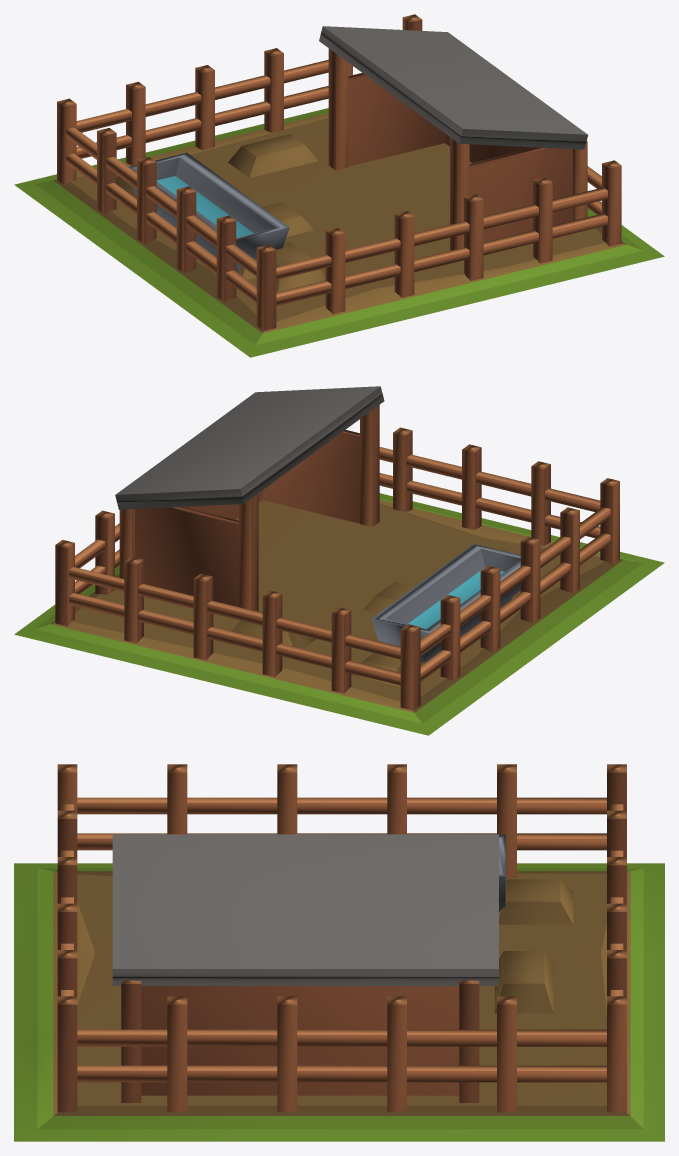
The model's file is PigPen.glb.
3 renders of one model, top to bottom at view 1: azimuth 30°, elevation 25°; view 2: azimuth 150°, elevation 25°; view 3: azimuth 270°, elevation 25°, orthographic. The views are drawn at different scales.
Visible parts, largest first — view 1: PigPen; view 2: PigPen; view 3: PigPen.
Part boxes in pixels (left/top/right/bottom): PigPen: left=14, top=14, right=664, bottom=357; PigPen: left=14, top=386, right=664, bottom=735; PigPen: left=14, top=764, right=664, bottom=1141.
Bounding box in the file's own units: 12 × 3.93 × 11.85.
Materials: 1 (1 with a texture image).
